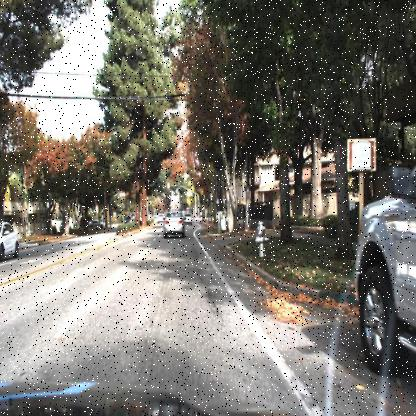car: (158, 203, 194, 244), (0, 219, 20, 262), (181, 203, 196, 224), (89, 216, 109, 231), (156, 213, 168, 225)
